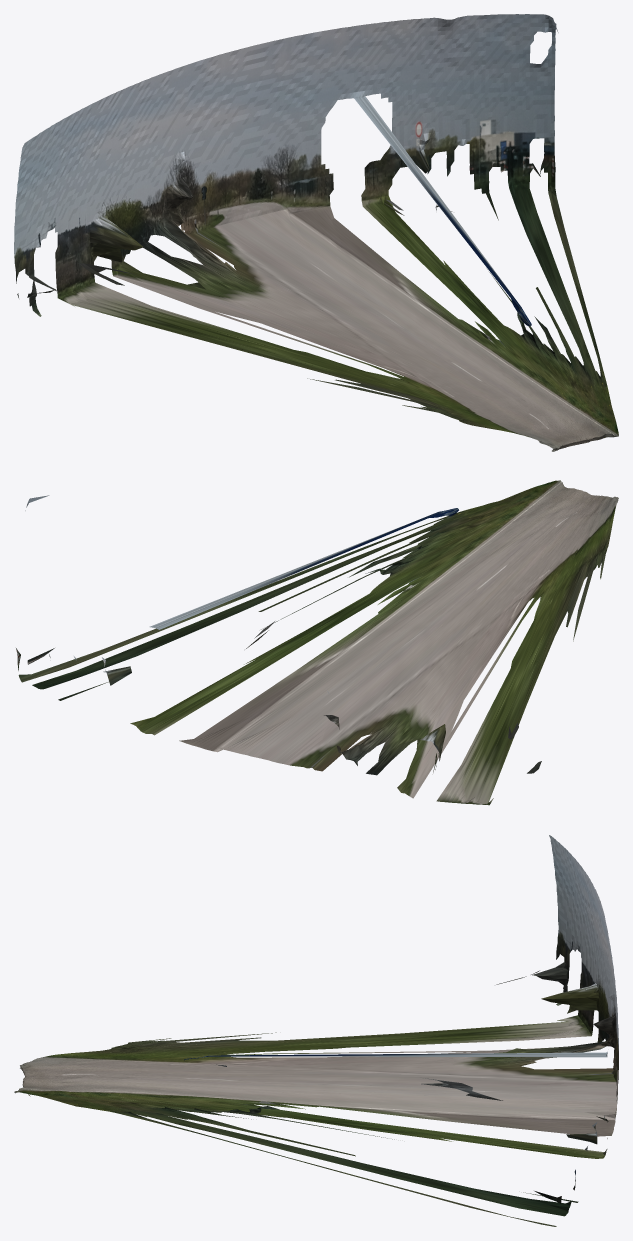
The picture shows the model from 3 angles, top to bottom: view 1: azimuth 30°, elevation 25°; view 2: azimuth 150°, elevation 25°; view 3: azimuth 270°, elevation 25°; orthographic projection. The views are drawn at different scales.
Visible parts, largest first — view 1: defaultobject; view 2: defaultobject; view 3: defaultobject.
Part boxes in pixels (box(x1,y1,x2,y2)): defaultobject: box(14, 14, 618, 451); defaultobject: box(16, 480, 618, 805); defaultobject: box(14, 835, 618, 1226).
Bounding box in the file's own units: 41.16 × 14.04 × 44.7.
1 material, 1 textured.
